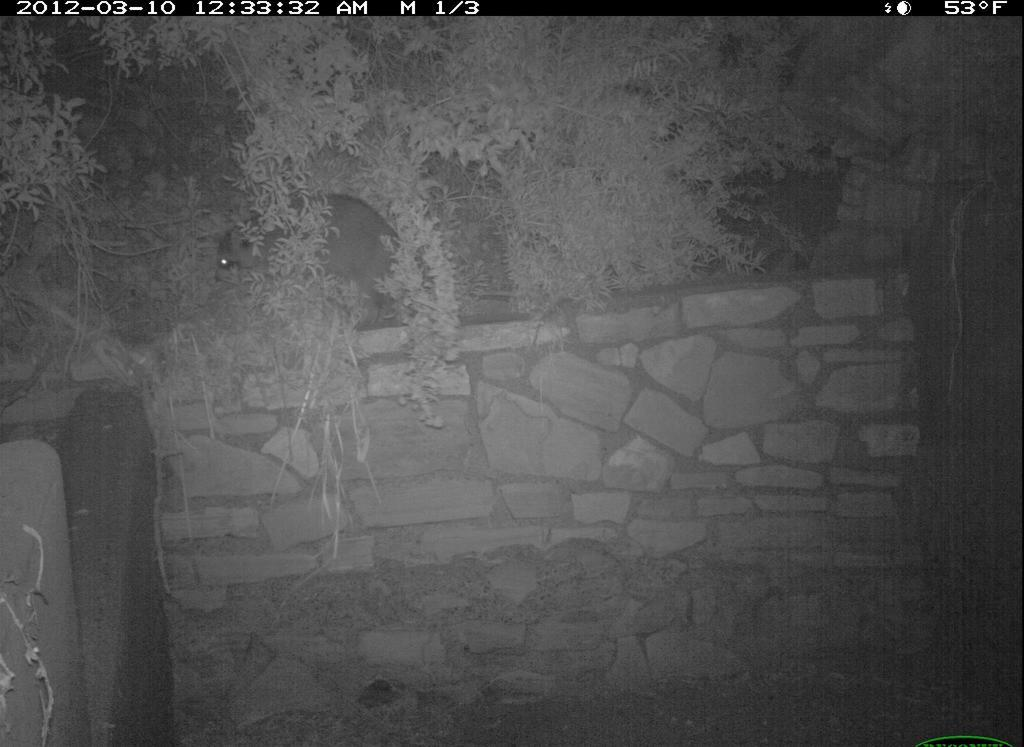raccoon: (209, 194, 433, 328)
